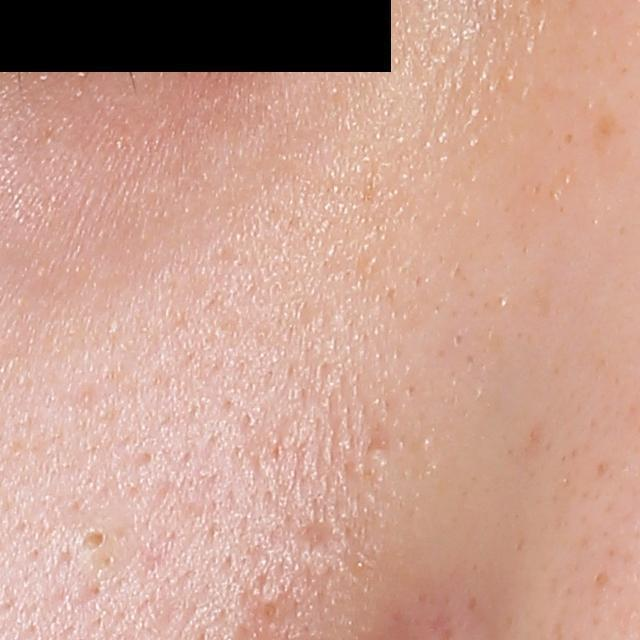atrophic_scar: (292, 514, 341, 556)
comedo: (70, 520, 122, 565), (257, 596, 282, 622)
melasma: (586, 113, 621, 155)
